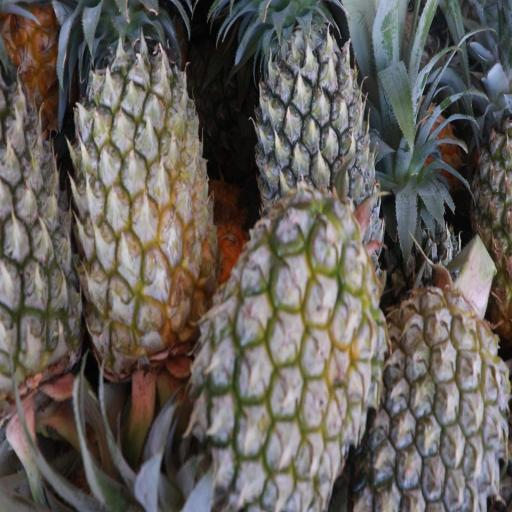------------------------------: (201, 197, 379, 512), (72, 0, 207, 367)
